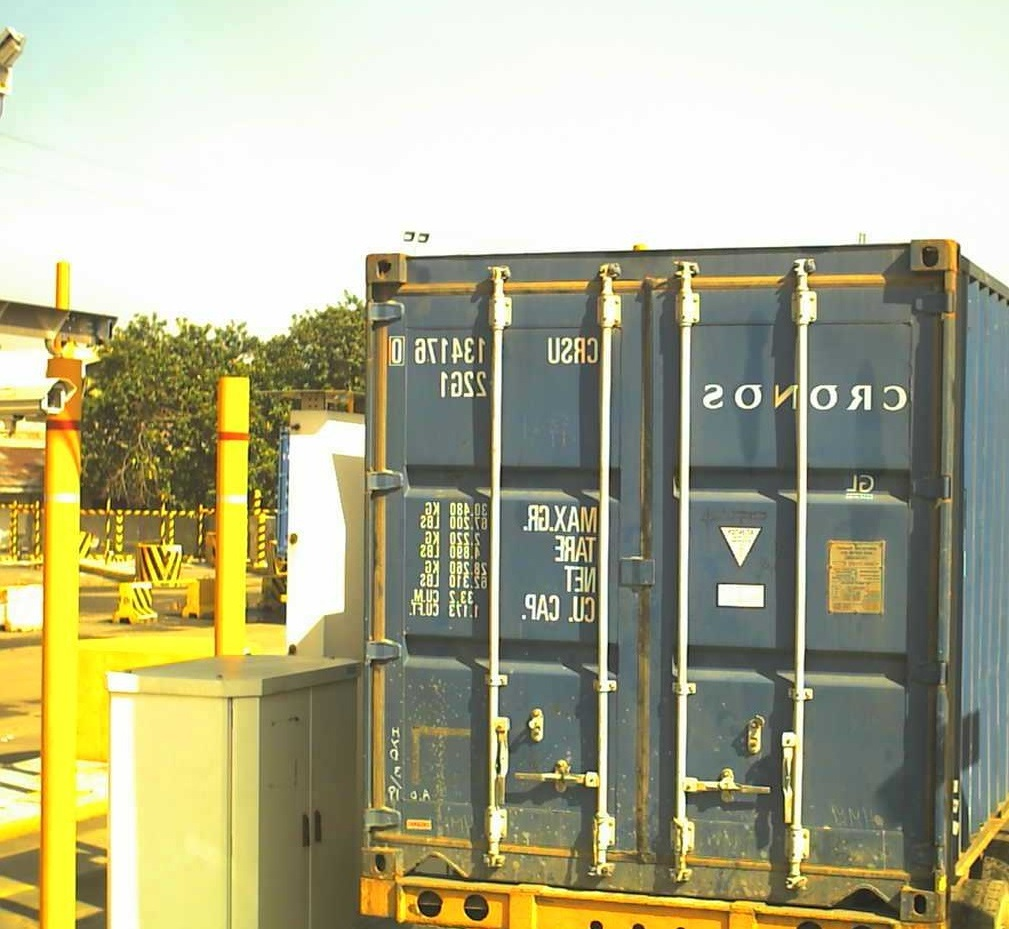container_door: (364, 234, 958, 923)
